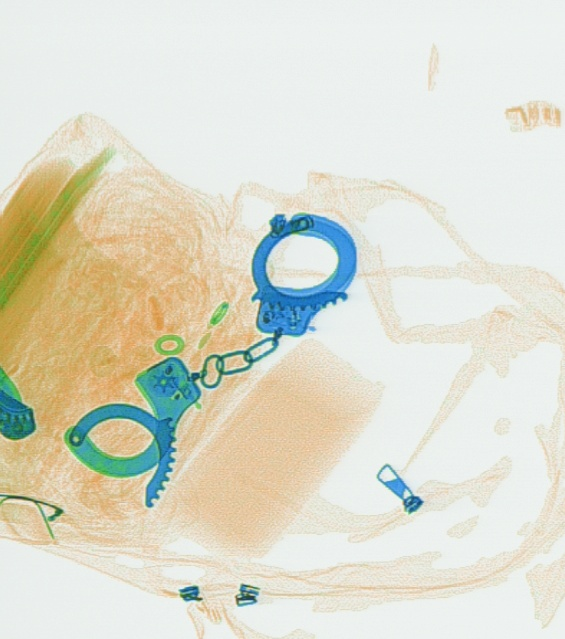handcuffs: (63, 210, 356, 509)
